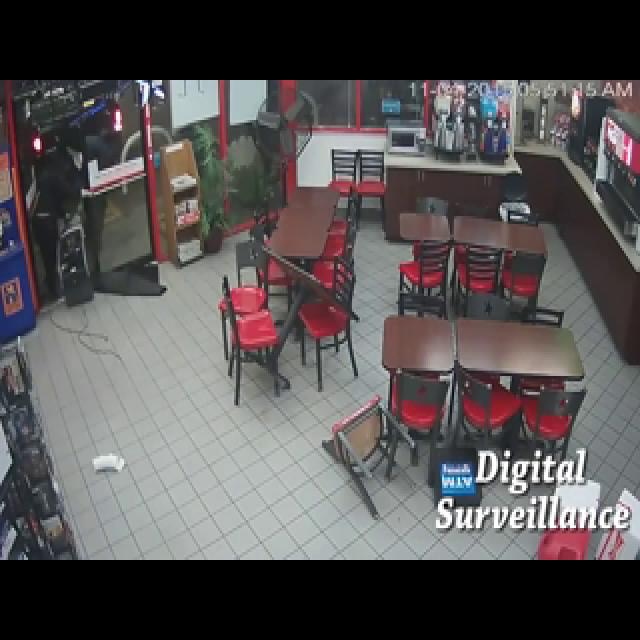burglary: (28, 60, 204, 344)
